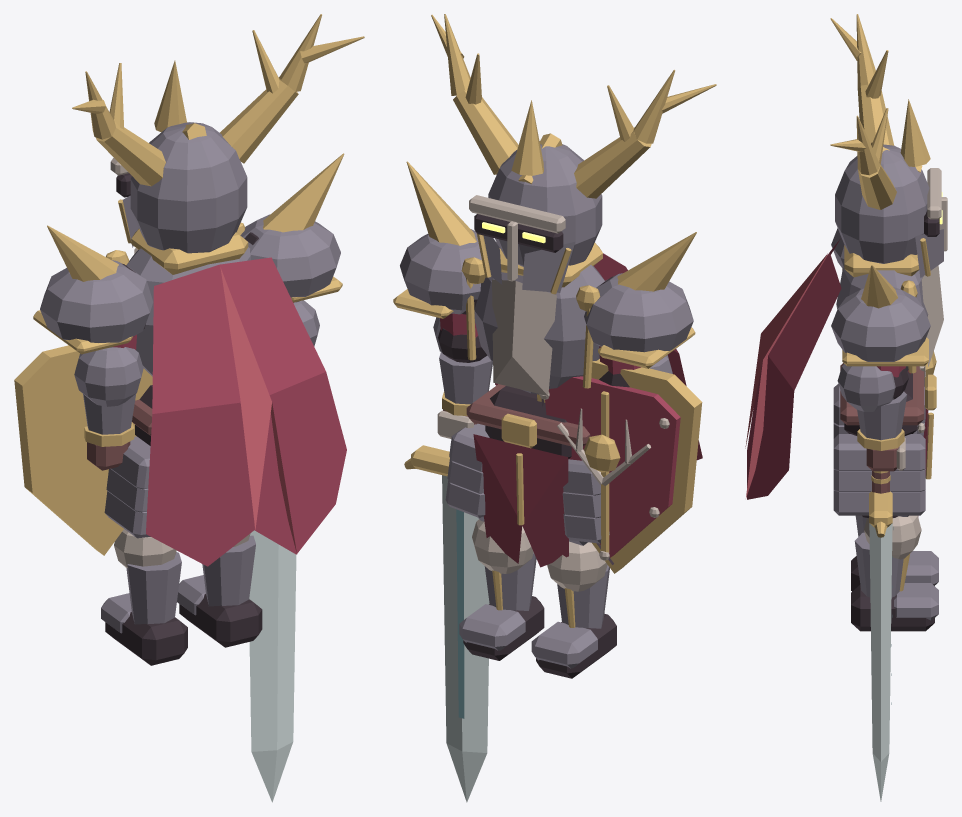
The model's file is thorn_lord.glb.
3 renders of one model, left to right at view 1: azimuth 30°, elevation 25°; view 2: azimuth 150°, elevation 25°; view 3: azimuth 270°, elevation 25°, orthographic. The views are drawn at different scales.
Parts seen in each view (by area): view 1: Tattered travel cloak, Shield brass silhouette, Helmet skull, Moonsteel blade, Layered pauldron L, Raised cloak folds, Layered pauldron R, Elbow cop L, Shin greave L, Crown lower antler.001, Leather boot R, Leather boot L (+20 smaller); view 2: Shield enamel face, Moonsteel blade, Split teal surcoat, Helmet skull, Layered pauldron L, Breastplate center ridge, Shield brass silhouette, Forged breastplate, Layered pauldron R, Crown lower antler, Crown lower antler.001, Shoulder thorn.001 (+38 smaller); view 3: Tattered travel cloak, Helmet skull, Layered pauldron R, Moonsteel blade, Raised cloak folds, Elbow cop R, Overlapping hip lames.003, Overlapping hip lames.005, Overlapping hip lames.004, Vambrace R, Armored toe R, Leather boot R (+25 smaller).
Boxes of the visible parts, box(x1,y1,x2,y2) form: Tattered travel cloak: box(146, 257, 346, 566); Shield brass silhouette: box(14, 345, 152, 555); Helmet skull: box(130, 122, 247, 253); Moonsteel blade: box(249, 530, 296, 802); Layered pauldron L: box(40, 260, 153, 347); Raised cloak folds: box(220, 267, 296, 553); Layered pauldron R: box(240, 214, 340, 302); Elbow cop L: box(74, 347, 143, 406); Shin greave L: box(126, 552, 181, 624); Crown lower antler.001: box(220, 77, 298, 163); Leather boot R: box(179, 593, 262, 647); Leather boot L: box(105, 612, 187, 665); Shield enamel face: box(545, 376, 680, 557); Moonsteel blade: box(442, 475, 489, 802); Split teal surcoat: box(473, 434, 568, 567); Helmet skull: box(488, 141, 602, 266); Layered pauldron L: box(584, 273, 693, 352); Breastplate center ridge: box(492, 279, 556, 395); Shield brass silhouette: box(537, 359, 702, 573); Forged breastplate: box(474, 265, 604, 394); Layered pauldron R: box(400, 229, 496, 314); Crown lower antler: box(574, 127, 651, 198); Crown lower antler.001: box(453, 90, 518, 174); Shoulder thorn.001: box(406, 161, 476, 245); Tattered travel cloak: box(747, 239, 841, 499); Helmet skull: box(835, 144, 929, 263); Layered pauldron R: box(831, 287, 930, 361); Moonsteel blade: box(869, 523, 892, 801); Raised cloak folds: box(745, 253, 827, 497); Elbow cop R: box(837, 364, 895, 411); Overlapping hip lames.003: box(833, 434, 925, 470); Overlapping hip lames.005: box(833, 490, 925, 515); Overlapping hip lames.004: box(833, 469, 925, 491); Vambrace R: box(857, 391, 906, 440); Armored toe R: box(894, 583, 938, 620); Leather boot R: box(851, 585, 934, 631).
Size of the model in its own units: 1.8 by 4.34 by 1.13.
